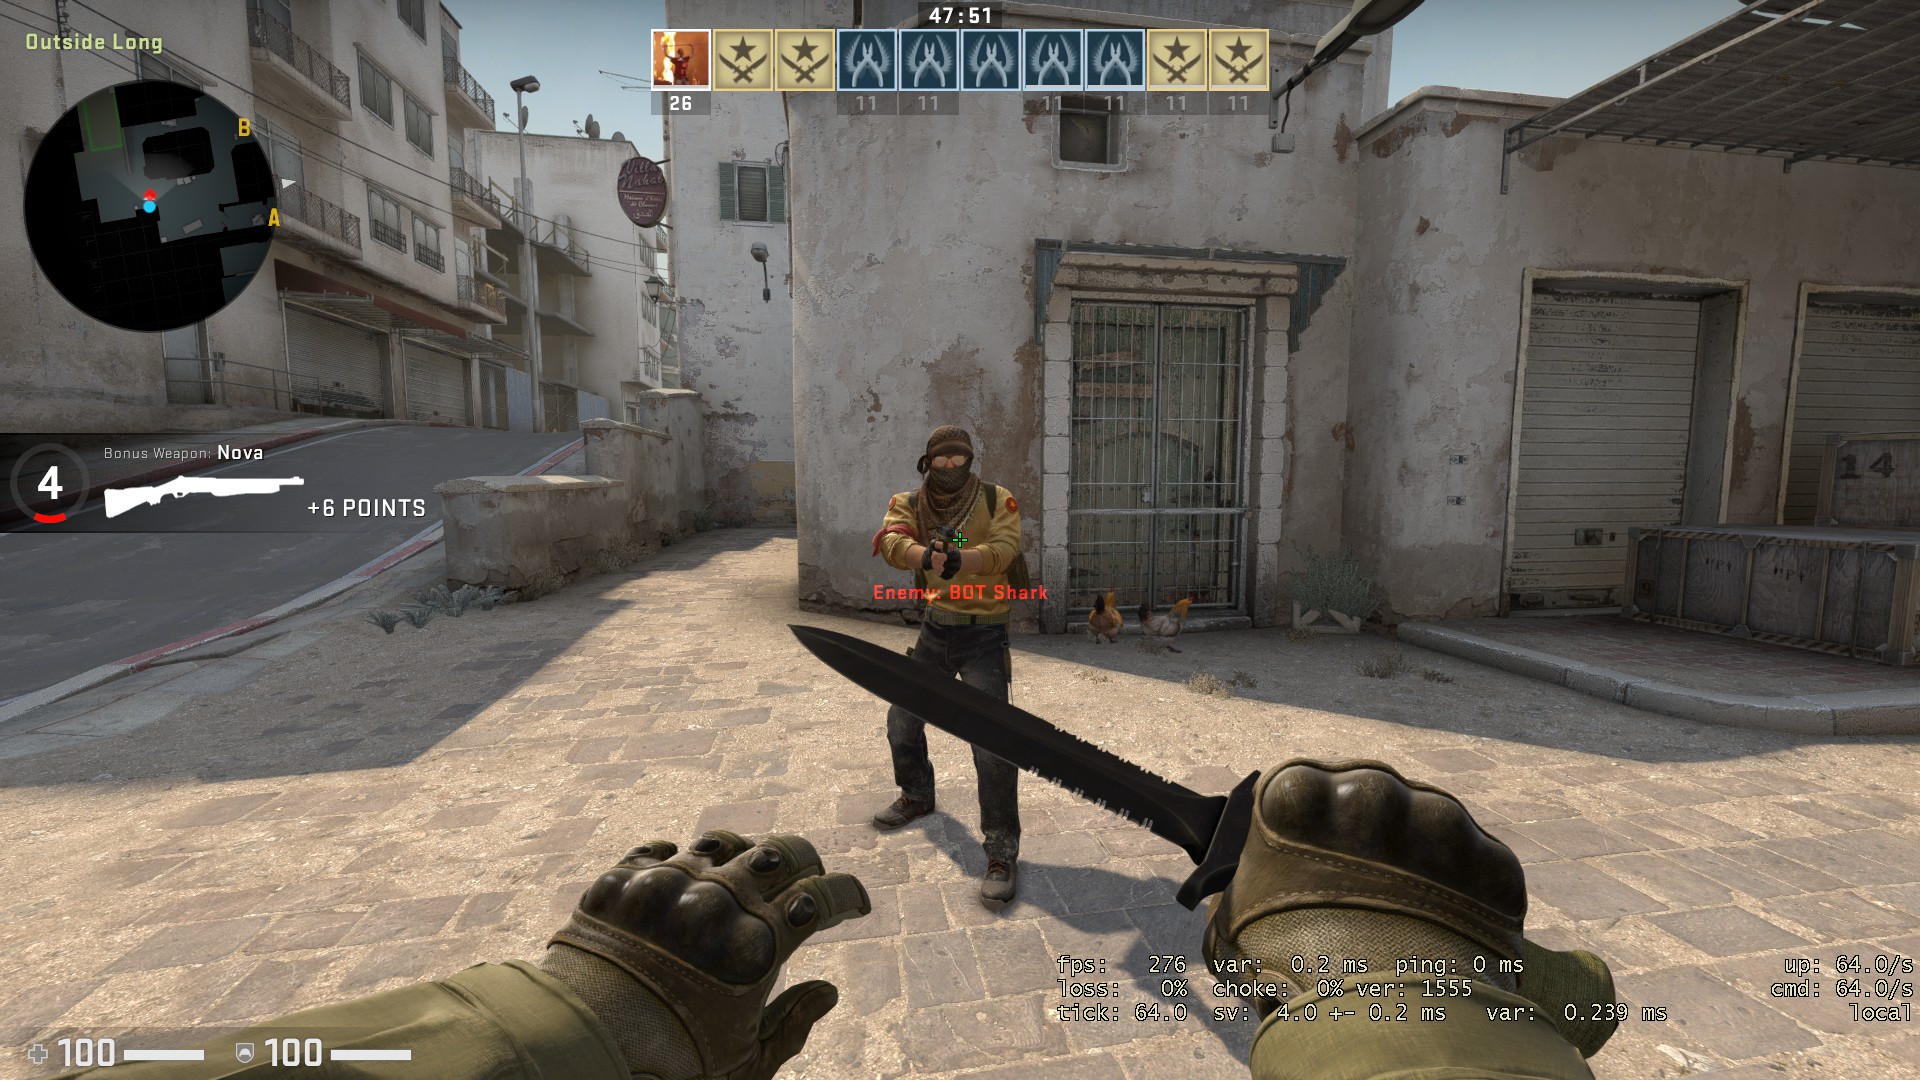player: (846, 402, 1049, 922)
